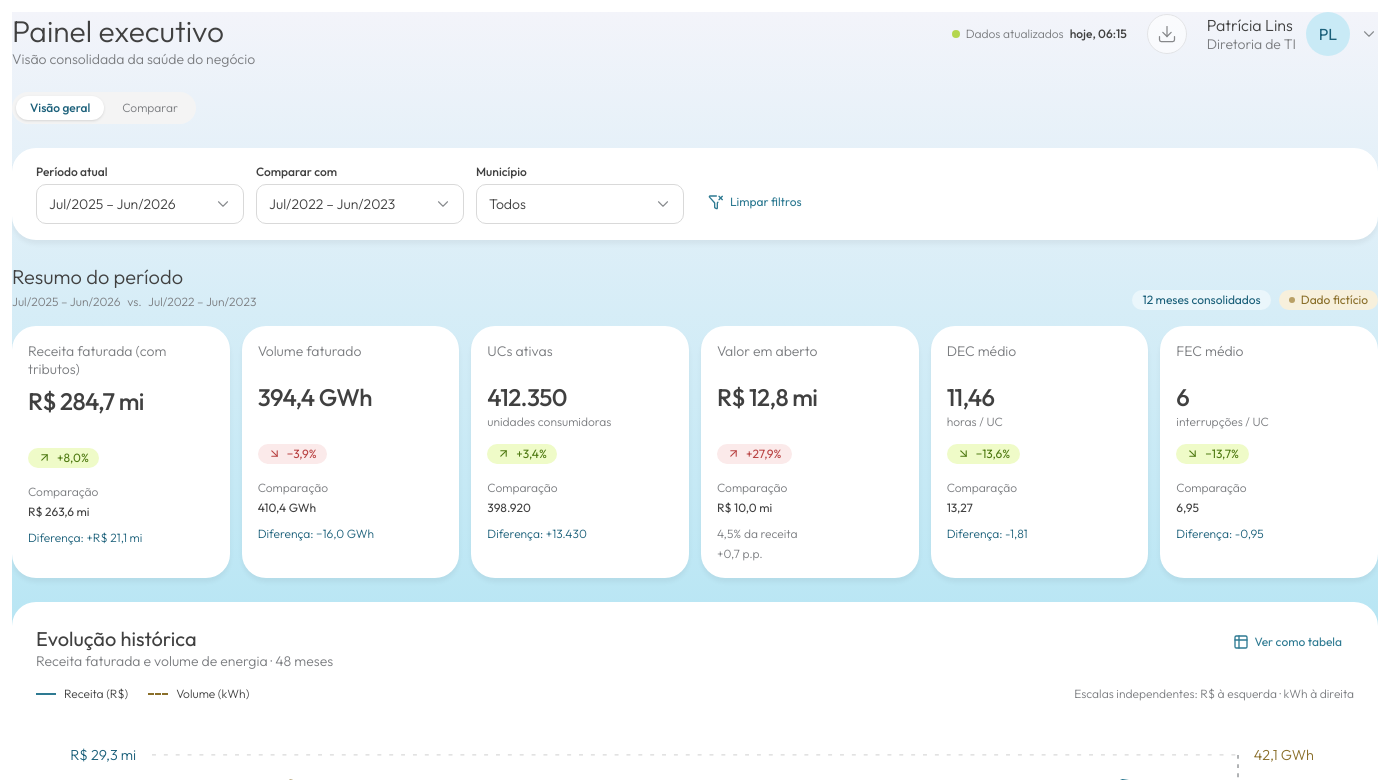
it: Tela 1 — Painel executivo › filtra o município pela URL e mantém ausências reais do mock como travessão
Expected: the element named "Seis indicadores executivos" is shown, x1=12 y1=326 x2=1378 y2=578
Select "Recife" in the dropdown labelled "Município": (580,204) x1=476 y1=184 x2=684 y2=224
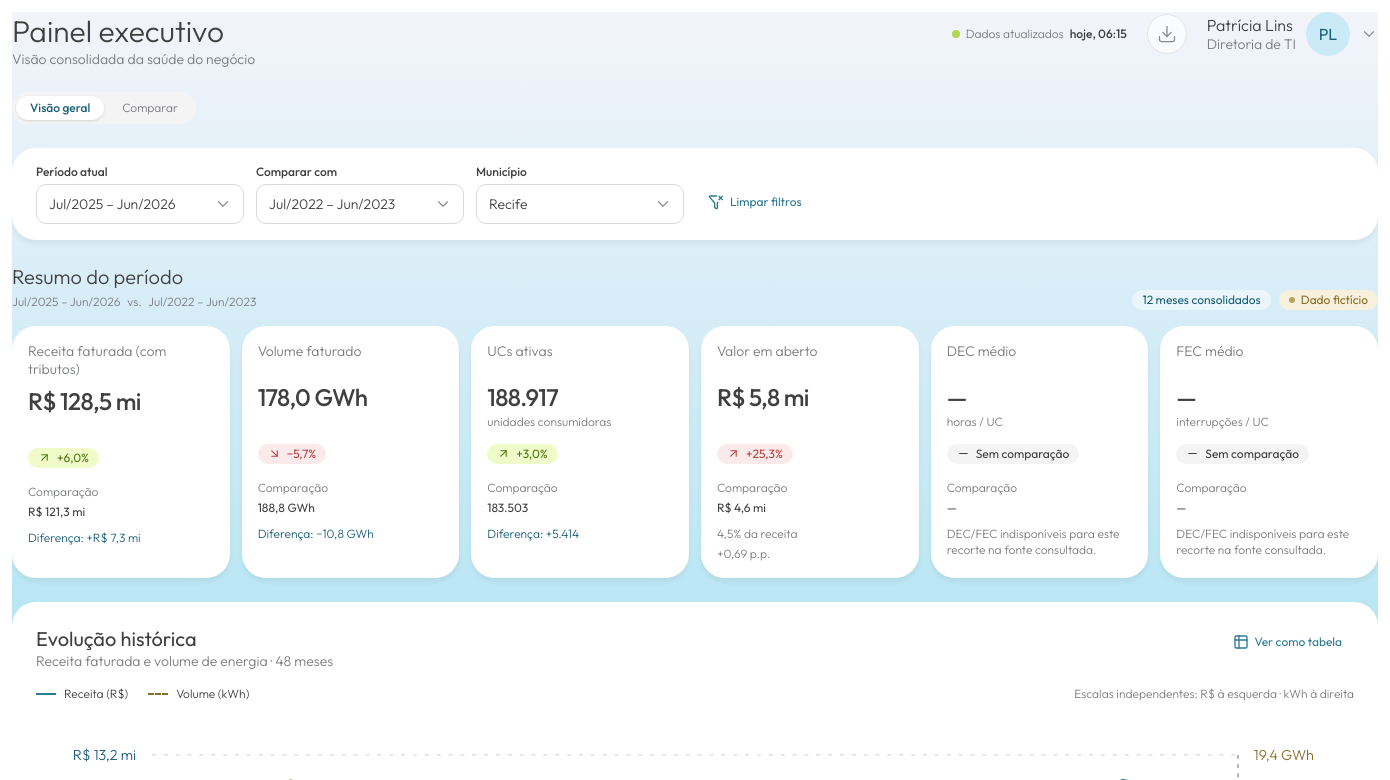
Expected: the text "DEC/FEC indisponíveis para este recorte na fonte consultada." is shown 2 times, x1=947 y1=526 x2=1132 y2=558; x1=1176 y1=526 x2=1362 y2=558
Expected: the text "—" is shown 2 times, x1=947 y1=382 x2=967 y2=412; x1=947 y1=500 x2=957 y2=515
Click the button "Limpar filtros": (755,202) x1=696 y1=186 x2=814 y2=218
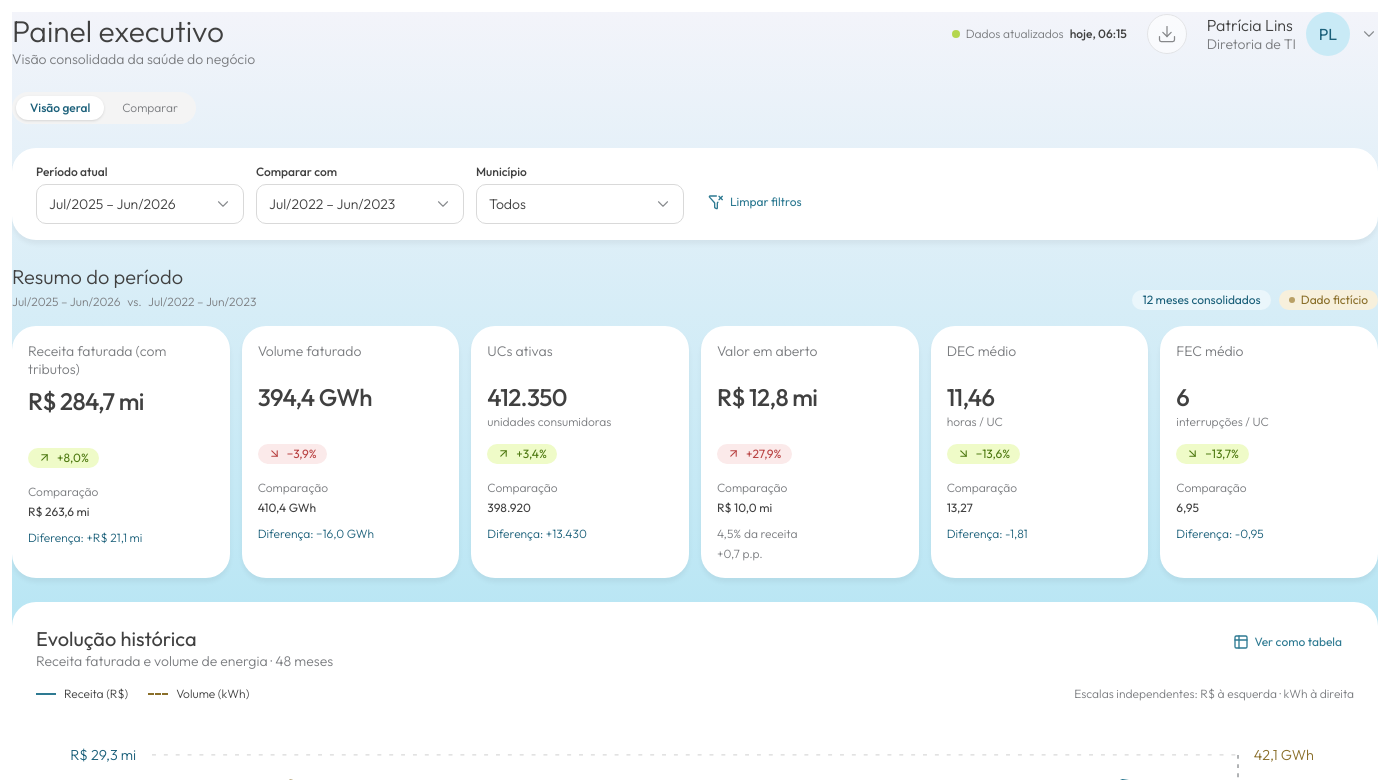
Now the text "11,46" is shown, box x1=947 y1=382 x2=995 y2=412
